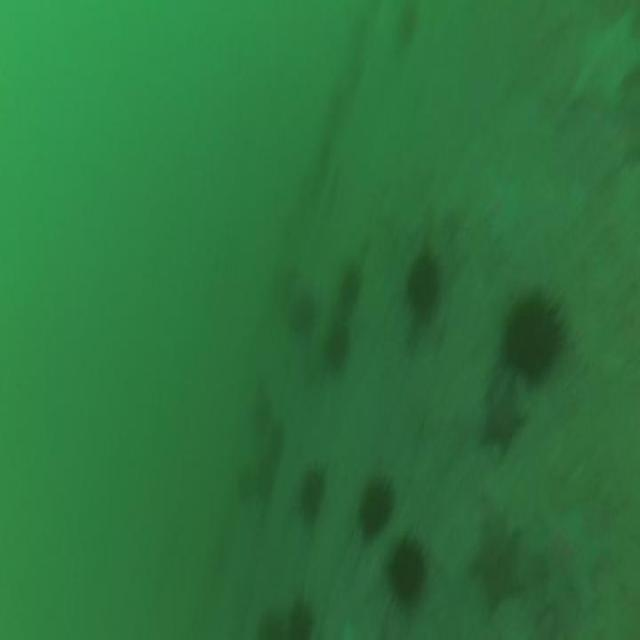echinus: (409, 496, 627, 640), (496, 275, 573, 395), (380, 522, 436, 616), (399, 240, 452, 327), (348, 463, 398, 545), (291, 462, 328, 534), (318, 314, 353, 373), (284, 589, 319, 640), (333, 259, 367, 311), (252, 602, 286, 640)
starfish: (542, 498, 609, 624), (464, 504, 528, 618), (477, 365, 531, 461)
